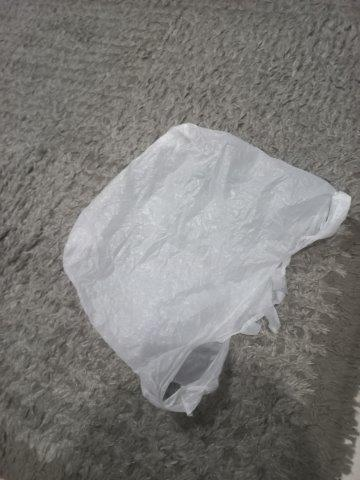plastik: (63, 122, 354, 421)
